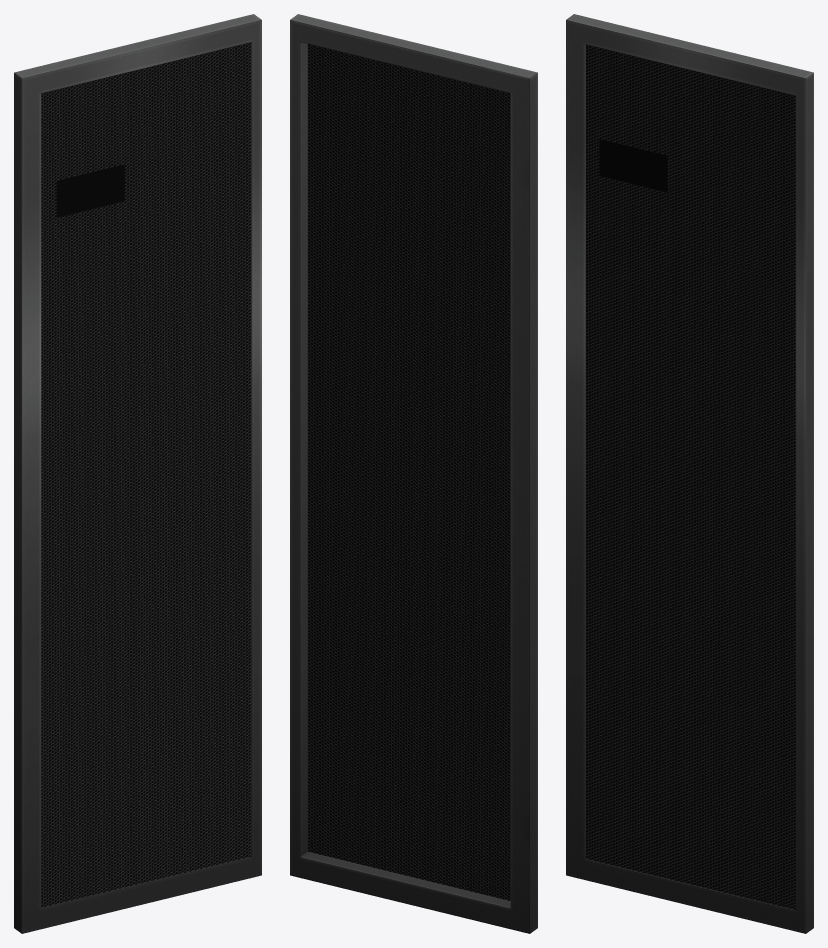
File: jigui_men1.obj
3 views of the same model, side by side, from view 1: azimuth 30°, elevation 25°; view 2: azimuth 150°, elevation 25°; view 3: azimuth 330°, elevation 25° (orthographic).
Parts seen in each view (by area): view 1: default001, default; view 2: default001, default; view 3: default001, default.
Part boxes in pixels (x1,y1,x2,y2): default001: (41, 42, 251, 907); default: (14, 14, 261, 933); default001: (307, 44, 510, 900); default: (290, 14, 537, 933); default001: (586, 44, 795, 909); default: (566, 14, 813, 933).
Bounding box in the file's own units: 59.23 × 202 × 3.67.
Materials: 2 (2 with a texture image).
